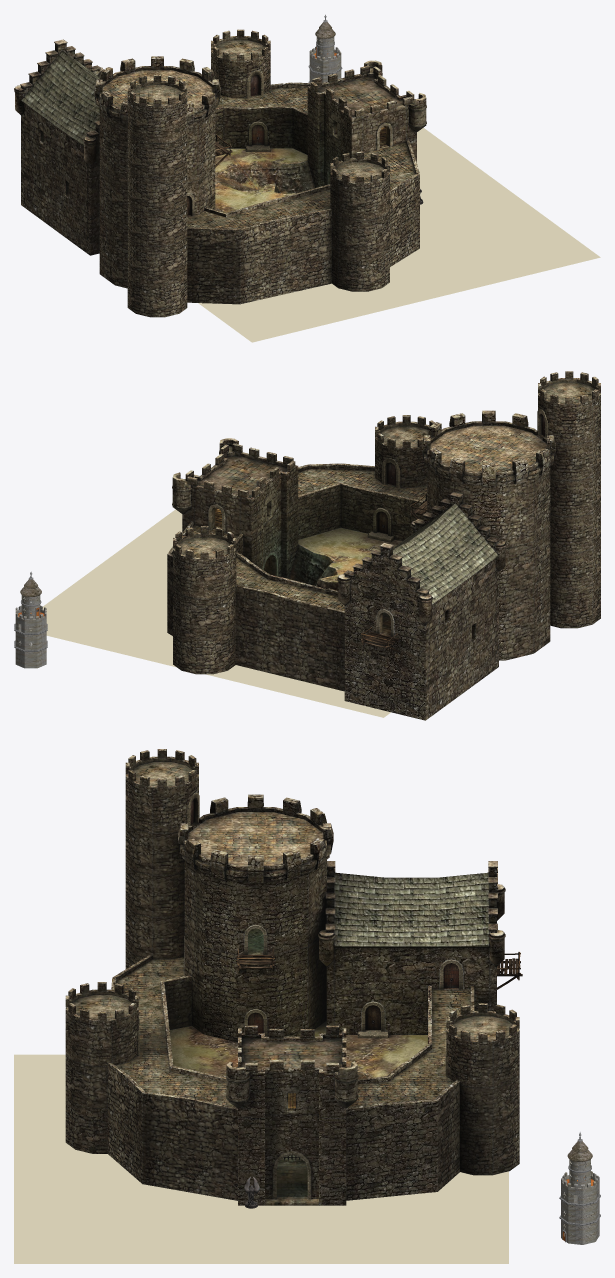
3 views of the same model, one above another, from view 1: azimuth 30°, elevation 25°; view 2: azimuth 150°, elevation 25°; view 3: azimuth 270°, elevation 25° (orthographic). The views are drawn at different scales.
Parts seen in each view (by area): view 1: Terrain 1,6, _Fanatik Architecture_ ARKAIG CASTLE 5#22, prim0-mesh#18 (×2), ARKAIG#36, _Fanatik Architecture_ ARKAIG CASTLE 5#2, _Fanatik Architecture_ ARKAIG CASTLE 5#21, prim0-mesh#14, prim0-mesh#11 (×2), prim0-mesh#19, _Fanatik Architecture_ ARKAIG CASTLE 3, prim0-mesh#17, prim0-mesh#31 (+15 smaller); view 2: Terrain 1,6, ARKAIG#16, _Fanatik Architecture_ ARKAIG CASTLE 5#16, prim0-mesh#22, ARKAIG#36, prim0-mesh#11 (×2), prim0-mesh#31, _Fanatik Architecture_ ARKAIG CASTLE 3, _Fanatik Architecture_ ARKAIG CASTLE 5#62, _Fanatik Architecture_ ARKAIG CASTLE 5#39, prim0-mesh#14, _Fanatik Architecture_ ARKAIG CASTLE 5#21 (+15 smaller); view 3: Terrain 1,6, _Fanatik Architecture_ ARKAIG CASTLE 5#7, _Fanatik Architecture_ ARKAIG CASTLE 5#41, prim0-mesh#11 (×2), _Fanatik Architecture_ ARKAIG CASTLE 3, prim0-mesh#31, _Fanatik Architecture_ ARKAIG CASTLE 5#18, _Fanatik Architecture_ ARKAIG CASTLE 5#21, ARKAIG#24, prim0-mesh#22, prim0-mesh#18 (×2), prim0-mesh#14 (+15 smaller).
Part boxes in pixels (bbox=[...]): Terrain 1,6: bbox=[198, 128, 600, 342]; _Fanatik Architecture_ ARKAIG CASTLE 5#22: bbox=[187, 208, 331, 304]; prim0-mesh#18 (×2): bbox=[216, 40, 389, 291]; ARKAIG#36: bbox=[24, 103, 86, 252]; _Fanatik Architecture_ ARKAIG CASTLE 5#2: bbox=[215, 148, 314, 212]; _Fanatik Architecture_ ARKAIG CASTLE 5#21: bbox=[187, 87, 415, 228]; prim0-mesh#14: bbox=[127, 81, 187, 177]; prim0-mesh#11 (×2): bbox=[99, 85, 215, 288]; prim0-mesh#19: bbox=[127, 237, 187, 317]; _Fanatik Architecture_ ARKAIG CASTLE 3: bbox=[21, 50, 99, 146]; prim0-mesh#17: bbox=[127, 168, 187, 245]; prim0-mesh#31: bbox=[99, 66, 215, 182]; Terrain 1,6: bbox=[30, 509, 390, 717]; ARKAIG#16: bbox=[343, 543, 429, 720]; _Fanatik Architecture_ ARKAIG CASTLE 5#16: bbox=[235, 585, 344, 691]; prim0-mesh#22: bbox=[173, 532, 236, 674]; ARKAIG#36: bbox=[429, 559, 495, 717]; prim0-mesh#11 (×2): bbox=[499, 382, 594, 660]; prim0-mesh#31: bbox=[427, 421, 550, 548]; _Fanatik Architecture_ ARKAIG CASTLE 3: bbox=[393, 503, 498, 604]; _Fanatik Architecture_ ARKAIG CASTLE 5#62: bbox=[298, 482, 427, 540]; _Fanatik Architecture_ ARKAIG CASTLE 5#39: bbox=[240, 464, 298, 578]; prim0-mesh#14: bbox=[538, 378, 600, 480]; _Fanatik Architecture_ ARKAIG CASTLE 5#21: bbox=[172, 468, 427, 610]; Terrain 1,6: bbox=[14, 1054, 508, 1263]; _Fanatik Architecture_ ARKAIG CASTLE 5#7: bbox=[107, 1062, 237, 1200]; _Fanatik Architecture_ ARKAIG CASTLE 5#41: bbox=[238, 1067, 346, 1205]; prim0-mesh#11 (×2): bbox=[132, 762, 326, 1042]; _Fanatik Architecture_ ARKAIG CASTLE 3: bbox=[334, 872, 489, 947]; prim0-mesh#31: bbox=[184, 807, 326, 954]; _Fanatik Architecture_ ARKAIG CASTLE 5#18: bbox=[346, 1080, 459, 1200]; _Fanatik Architecture_ ARKAIG CASTLE 5#21: bbox=[116, 956, 470, 1108]; ARKAIG#24: bbox=[334, 947, 489, 1034]; prim0-mesh#22: bbox=[446, 1011, 519, 1175]; prim0-mesh#18 (×2): bbox=[65, 989, 512, 1153]; prim0-mesh#14: bbox=[125, 756, 198, 875].
Bounding box in the file's own units: 75 × 38.49 × 75.89.
199 materials, 198 textured.
